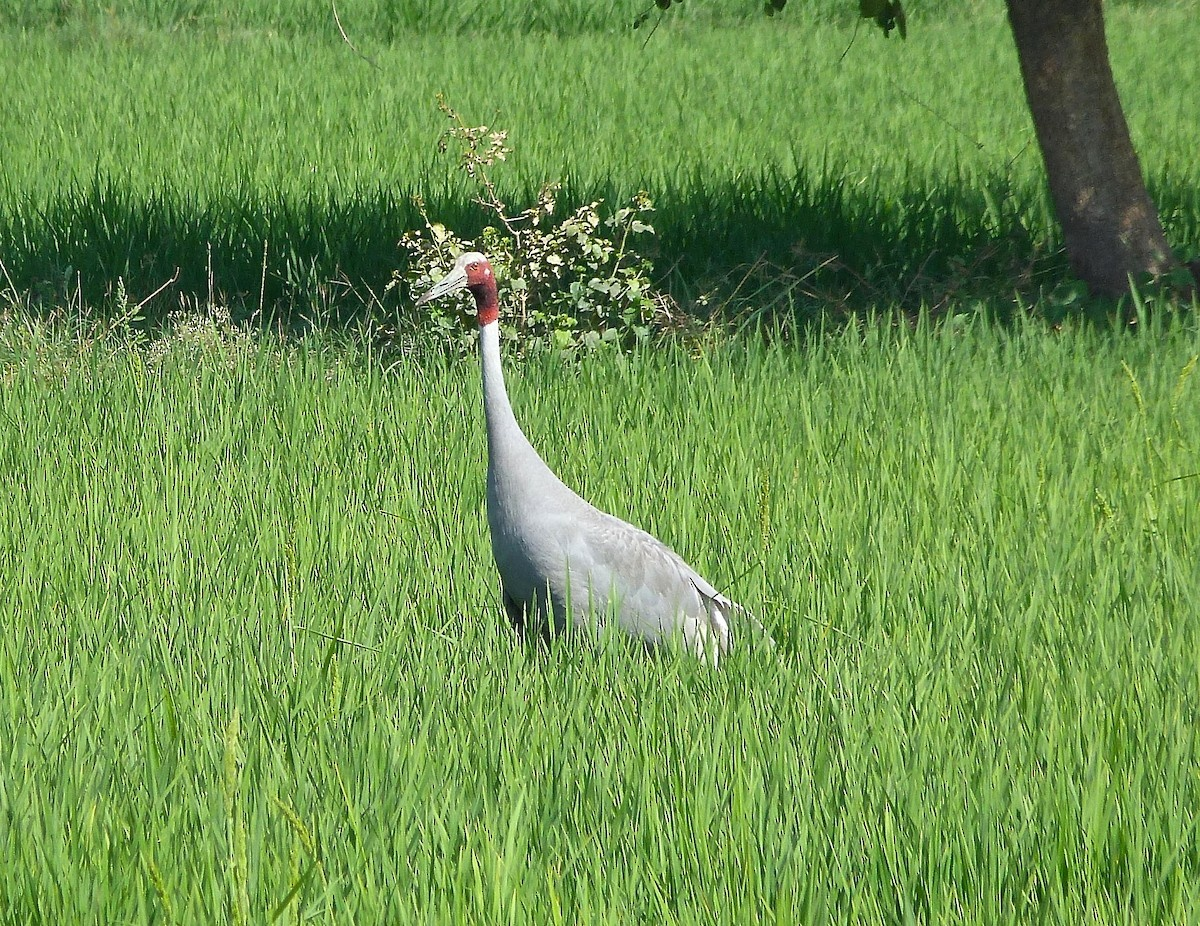crane: (422, 232, 733, 672)
